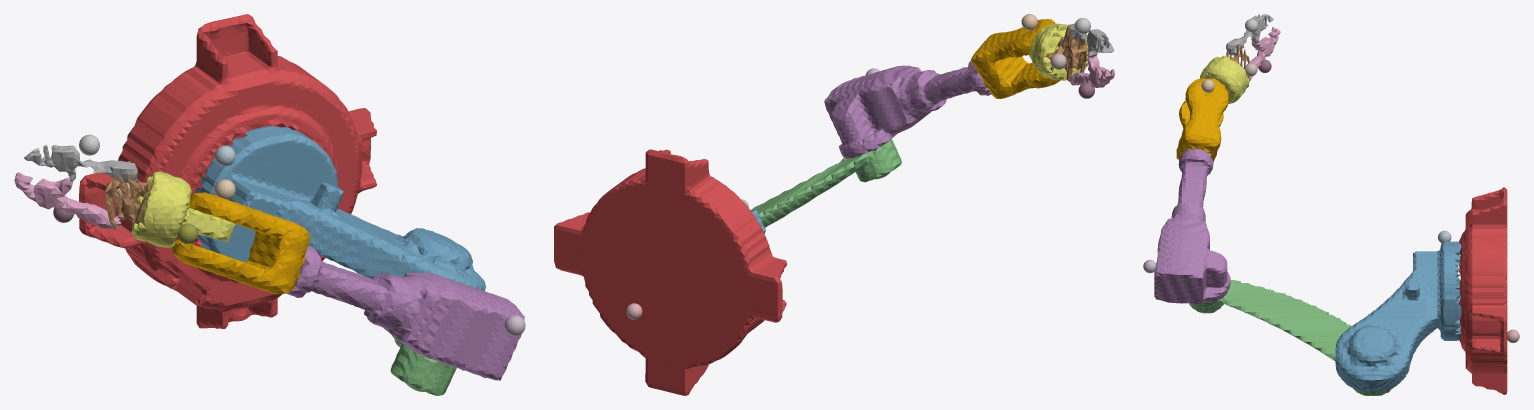
Rendered from ours.glb.
3 views of the same model, side by side, from view 1: azimuth 30°, elevation 25°; view 2: azimuth 150°, elevation 25°; view 3: azimuth 270°, elevation 25° (orthographic). The views are drawn at different scales.
Visible parts, largest first — view 1: g0, g1, g3, g4, g5, g7, g8, g2, g6; view 2: g0, g3, g4, g2, g5, g6, g7, g8; view 3: g1, g0, g3, g2, g4, g5, g8, g7, g6.
Boxes of the visible parts, <box> form: g0: <box>79,14,376,328</box>; g1: <box>196,126,486,290</box>; g3: <box>287,245,525,380</box>; g4: <box>172,179,310,293</box>; g5: <box>131,171,235,247</box>; g7: <box>14,172,120,228</box>; g8: <box>24,134,137,182</box>; g2: <box>390,333,456,395</box>; g6: <box>105,161,152,229</box>; g0: <box>554,149,786,395</box>; g3: <box>824,61,991,158</box>; g4: <box>971,14,1060,98</box>; g2: <box>750,139,901,227</box>; g5: <box>1028,23,1088,80</box>; g6: <box>1046,26,1087,81</box>; g7: <box>1069,55,1114,98</box>; g8: <box>1065,18,1114,57</box>; g1: <box>1335,230,1461,393</box>; g0: <box>1459,187,1519,394</box>; g3: <box>1143,148,1230,303</box>; g2: <box>1189,280,1393,395</box>; g4: <box>1176,78,1228,162</box>; g5: <box>1200,55,1249,103</box>; g8: <box>1226,14,1273,55</box>; g7: <box>1249,27,1280,81</box>; g6: <box>1226,44,1257,79</box>.
Bounding box in the file's own units: 1.89 × 1.38 × 1.78.
